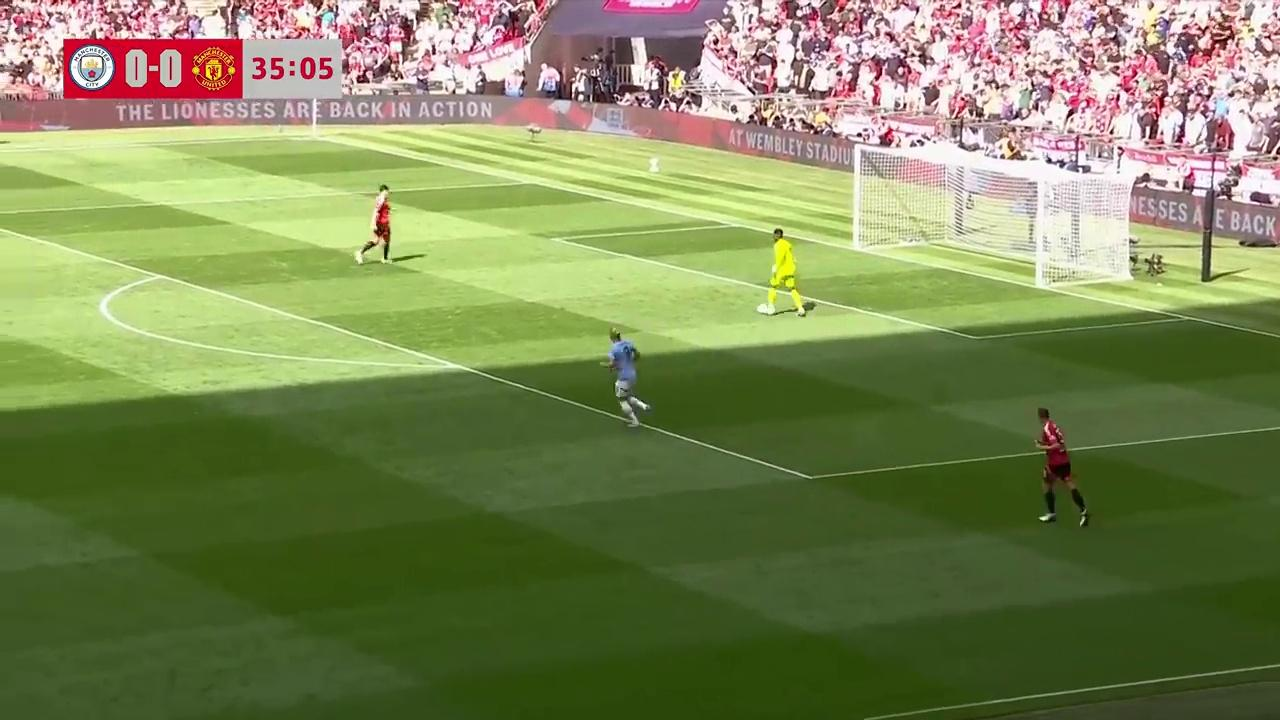ball: (754, 299, 774, 315)
player: (1034, 407, 1089, 526), (761, 228, 807, 317), (609, 333, 651, 428), (355, 186, 392, 265)
